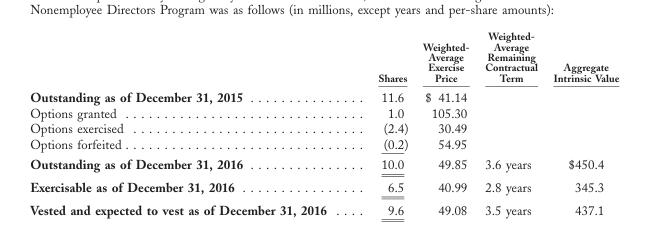table: (29, 29, 618, 217)
table column: (29, 29, 351, 217), (544, 29, 618, 217), (476, 29, 544, 217), (351, 29, 414, 217), (414, 29, 476, 217)
table column header: (29, 29, 618, 86)
table row: (29, 29, 618, 86), (29, 175, 618, 198), (29, 153, 618, 175), (29, 198, 618, 217), (29, 86, 618, 104), (29, 135, 618, 153), (29, 104, 618, 120), (29, 120, 618, 135)
